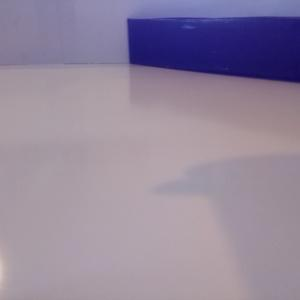zone: (127, 16, 300, 82)
